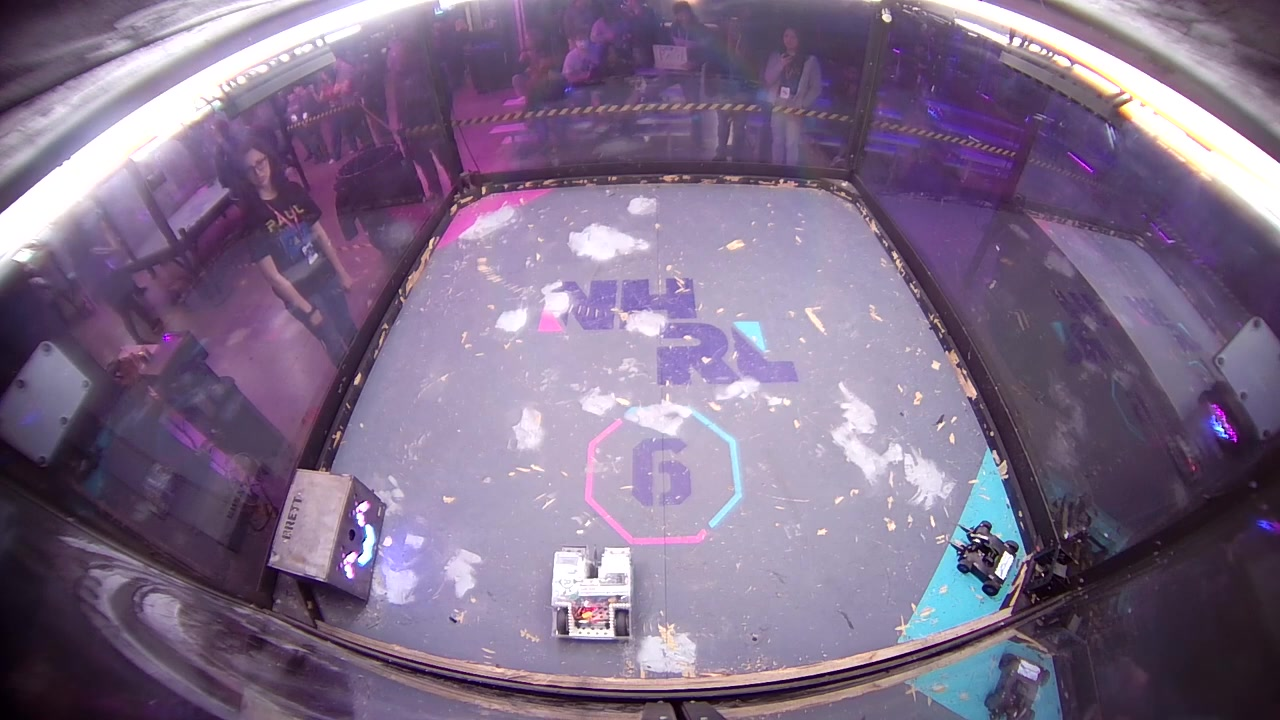combatbot: (550, 549, 637, 645), (955, 521, 1021, 596), (986, 641, 1050, 718)
housebot: (267, 468, 387, 609)
